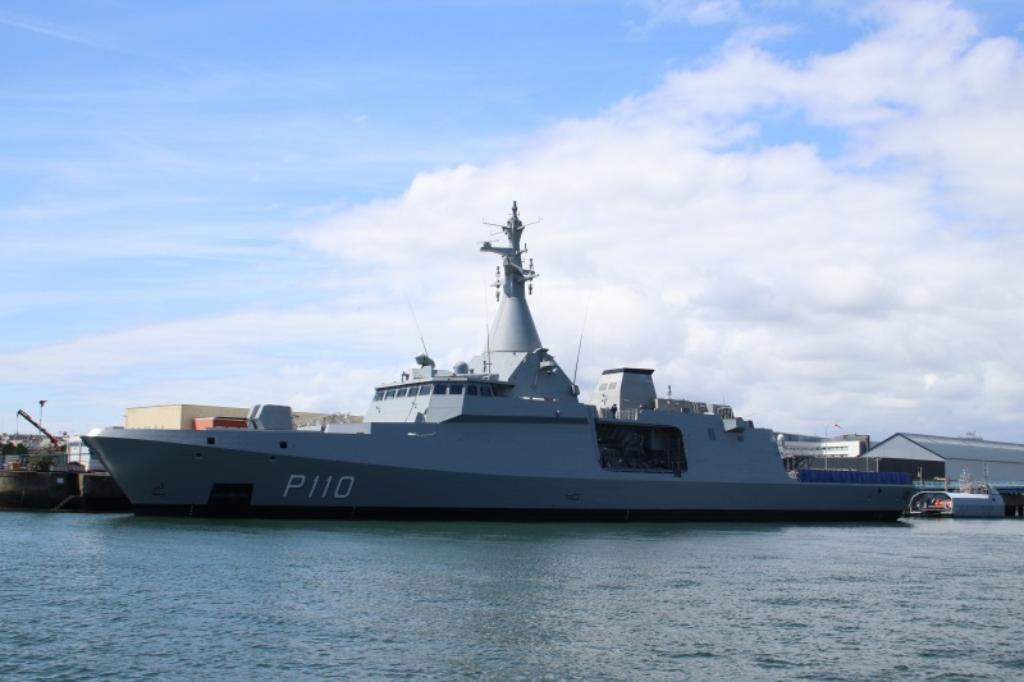Warship: (86, 192, 920, 522)
